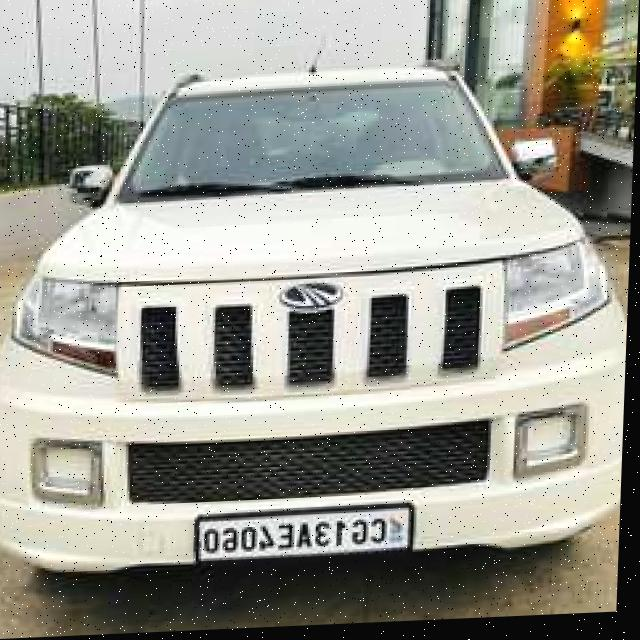plate: (198, 506, 419, 564)
